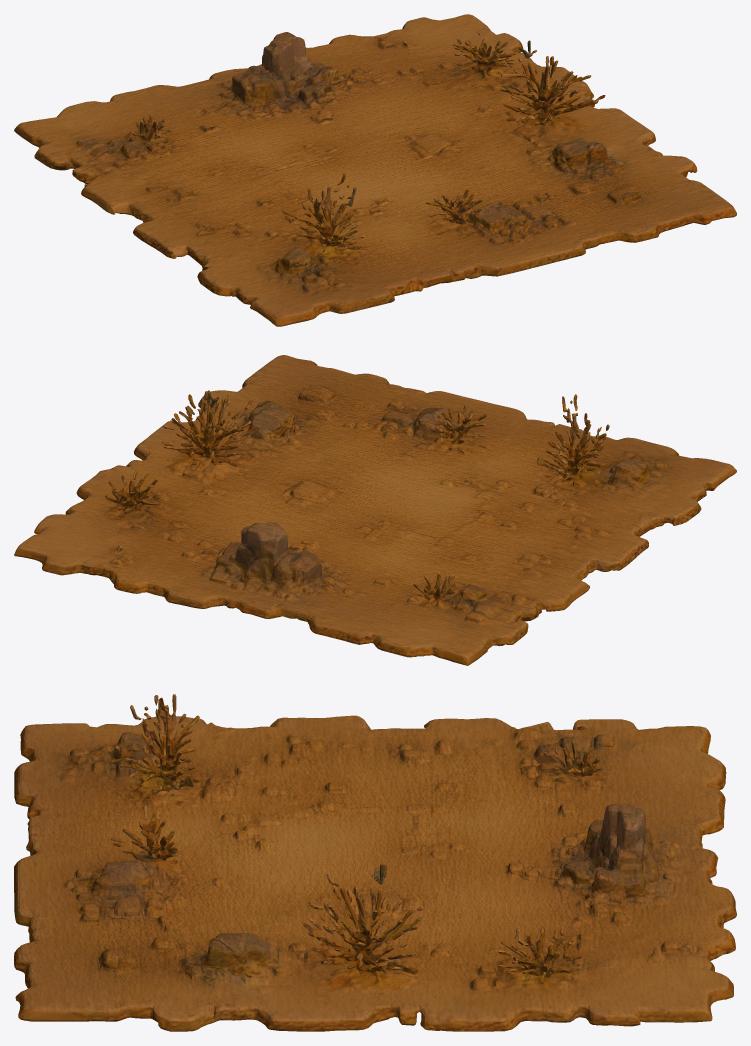
Rendered from desert-ground-1.glb.
The picture shows the model from 3 angles, top to bottom: view 1: azimuth 30°, elevation 25°; view 2: azimuth 150°, elevation 25°; view 3: azimuth 270°, elevation 25°; orthographic projection. The views are drawn at different scales.
Visible parts, largest first — view 1: textured_mesh.obj; view 2: textured_mesh.obj; view 3: textured_mesh.obj.
Part boxes in pixels (x1,y1,x2,y2): textured_mesh.obj: [14, 14, 736, 326]; textured_mesh.obj: [14, 355, 736, 665]; textured_mesh.obj: [14, 694, 736, 1031].
Bounding box in the file's own units: 1.99 × 0.354 × 1.98.
Materials: 1 (1 with a texture image).
